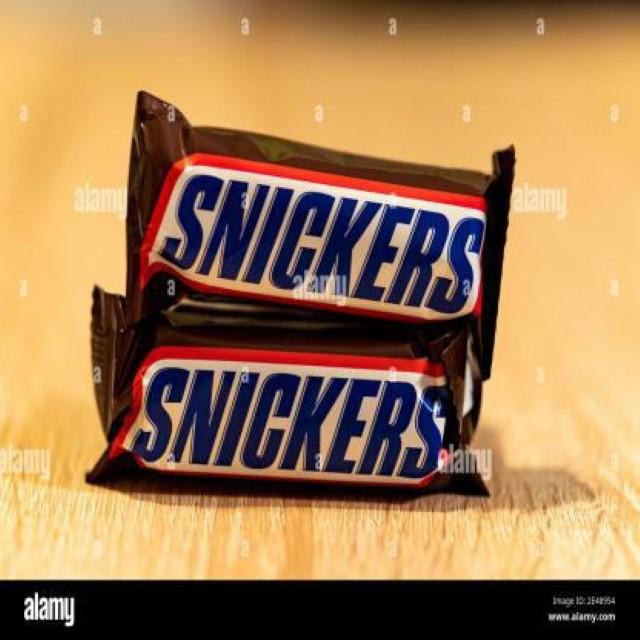snickers_chocolate: (100, 294, 500, 504), (150, 113, 485, 320)
